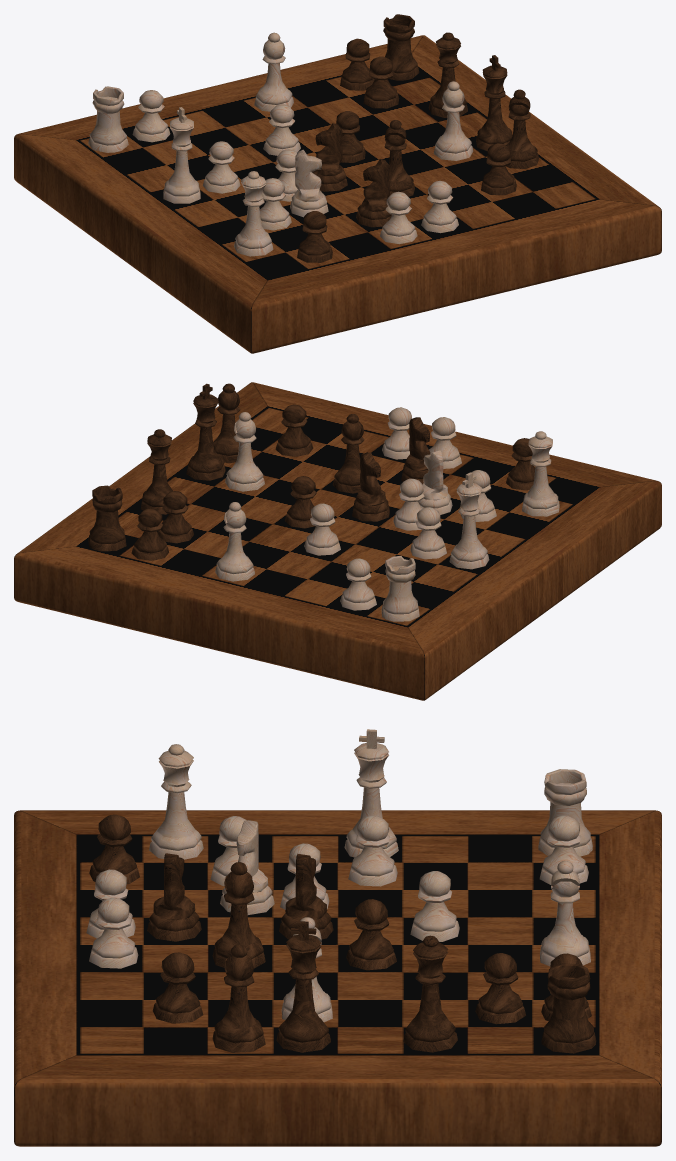
Rendered from WoodenChessSet3.glb.
3 renders of one model, top to bottom at view 1: azimuth 30°, elevation 25°; view 2: azimuth 150°, elevation 25°; view 3: azimuth 270°, elevation 25°, orthographic. The views are drawn at different scales.
Visible parts, largest first — view 1: BlackQueen; view 2: BlackQueen; view 3: BlackQueen.
Part boxes in pixels (x1,y1,x2,y2): BlackQueen: (14,14,661,353); BlackQueen: (14,382,661,700); BlackQueen: (14,729,661,1146).
Bounding box in the file's own units: 0.35 × 0.1108 × 0.35.
3 materials, 3 textured.
